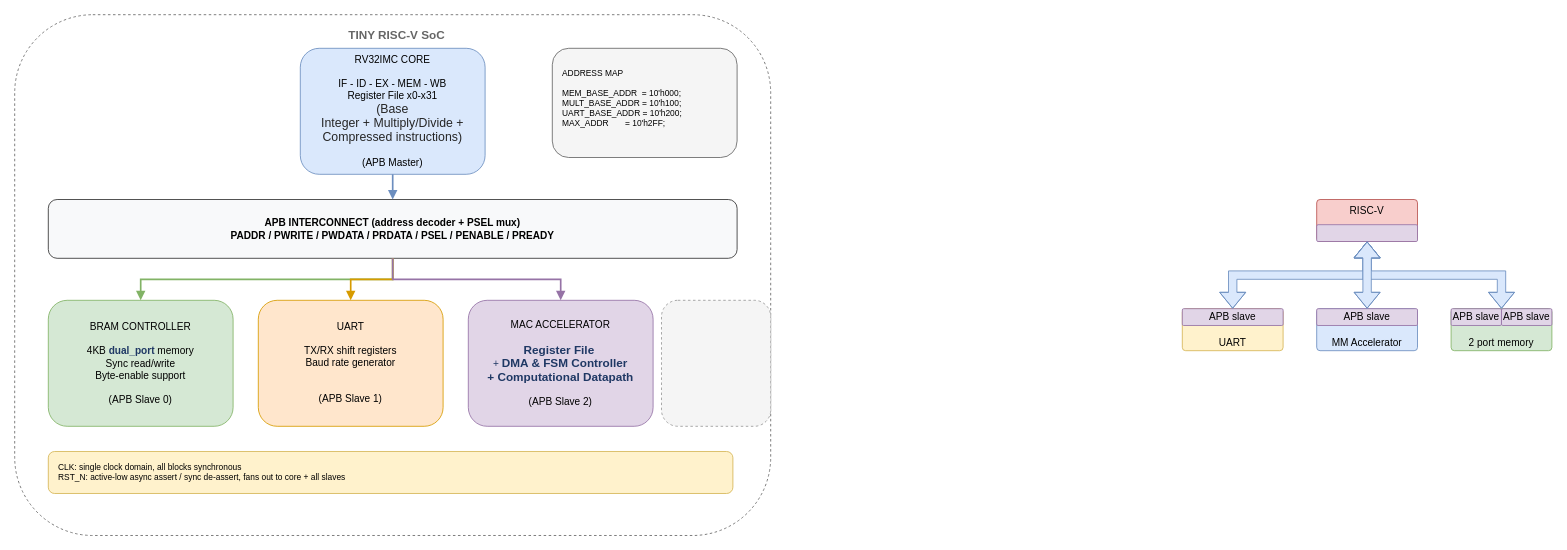
The diagram is 1567 pixels wide and 550 high, and some of its shapes have lost their labels. The shapes that lost their labels are listed below. From the top down, each one's centre as x and y in pixels, then its label:
At (x=1367, y=233): "APB master".
At (x=716, y=362): "reserved expansion slave slot (S3)".
